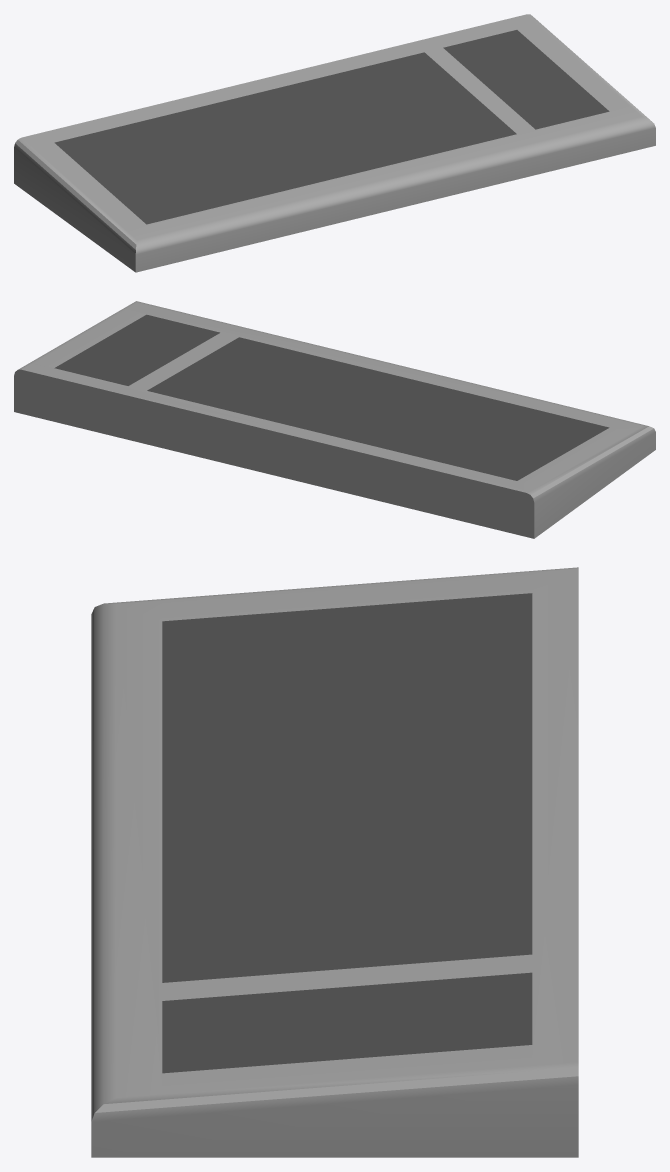
File: Keyboard.fbx
3 renders of one model, top to bottom at view 1: azimuth 30°, elevation 25°; view 2: azimuth 150°, elevation 25°; view 3: azimuth 270°, elevation 25°, orthographic. The views are drawn at different scales.
Parts seen in each view (by area): view 1: Keyboard; view 2: Keyboard; view 3: Keyboard.
Part boxes in pixels (left/top/right/bottom): Keyboard: left=14, top=14, right=655, bottom=272; Keyboard: left=14, top=301, right=655, bottom=538; Keyboard: left=91, top=567, right=578, bottom=1157.
Bounding box in the file's own units: 4.2 × 0.3403 × 1.7.
2 materials, 2 textured.
